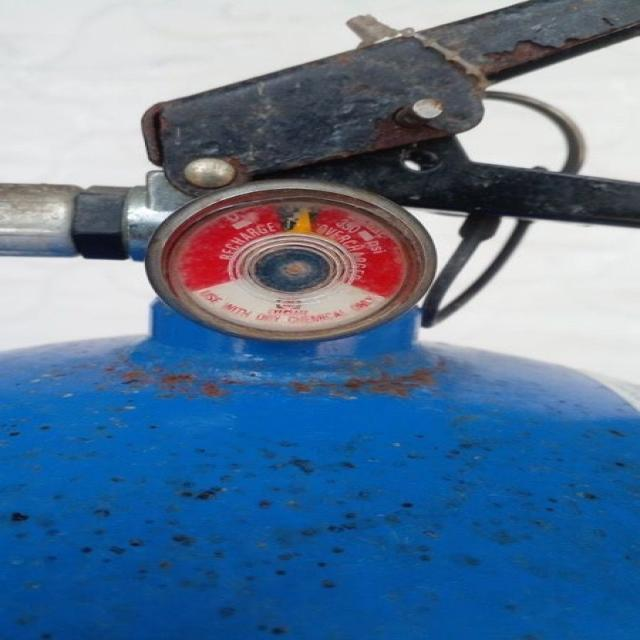pressure gauge: (146, 181, 435, 340)
